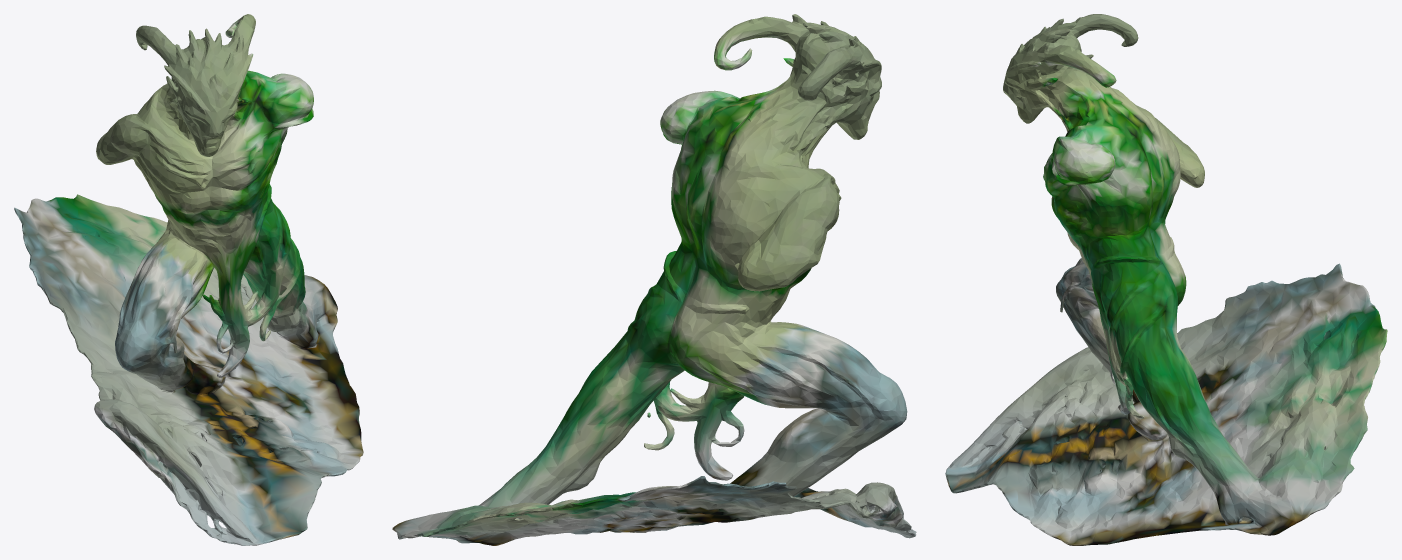
File: incubus.glb
3 renders of one model, left to right at view 1: azimuth 30°, elevation 25°; view 2: azimuth 150°, elevation 25°; view 3: azimuth 270°, elevation 25°, orthographic. The views are drawn at different scales.
Visible parts, largest first — view 1: world; view 2: world; view 3: world.
Part boxes in pixels (left/top/right/bottom): world: left=14, top=14, right=363, bottom=545; world: left=392, top=14, right=916, bottom=545; world: left=945, top=14, right=1387, bottom=545.
Bounding box in the file's own units: 0.7306 × 1 × 0.894.
